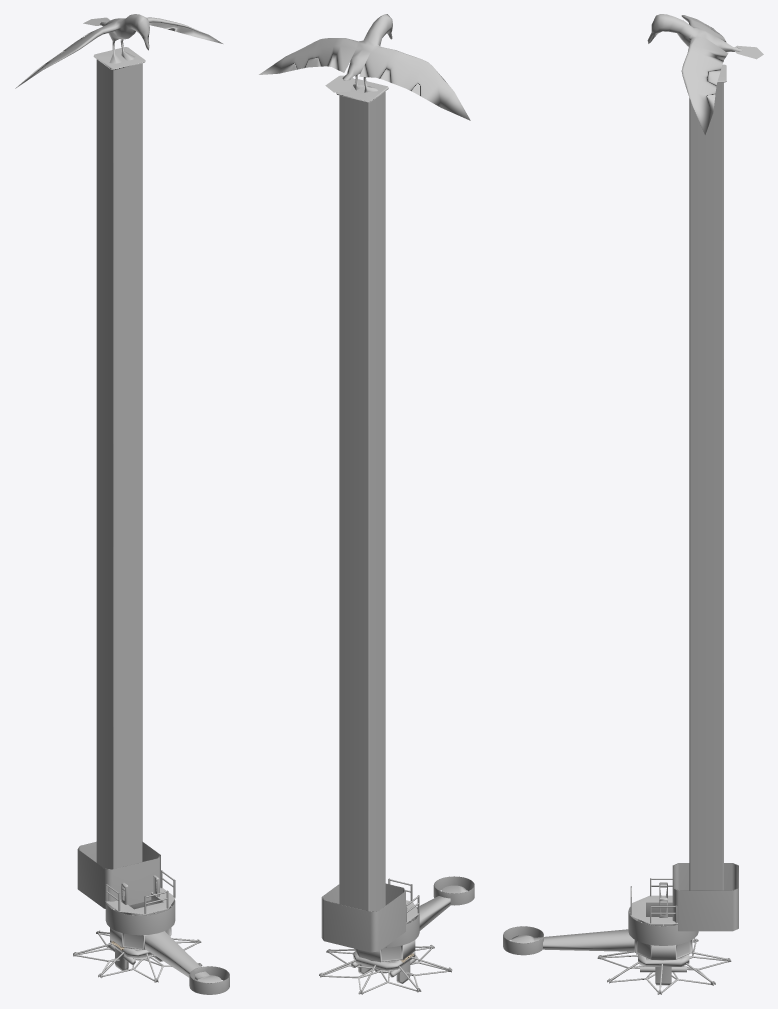
The model's file is condor.fbx.
3 renders of one model, left to right at view 1: azimuth 30°, elevation 25°; view 2: azimuth 150°, elevation 25°; view 3: azimuth 270°, elevation 25°, orthographic.
Parts seen in each view (by area): view 1: mast, hubwerk, arm, ring, arm_halter; view 2: mast, hubwerk, arm, ring, arm_halter; view 3: mast, hubwerk, arm, ring, arm_halter.
Part boxes in pixels (x1,y1,x2,y2): mast: (15, 14, 222, 908); hubwerk: (105, 870, 175, 970); arm: (145, 931, 229, 994); ring: (73, 930, 202, 982); arm_halter: (110, 928, 171, 949); mast: (259, 14, 470, 952); hubwerk: (351, 878, 419, 983); arm: (417, 876, 474, 930); ring: (319, 945, 452, 994); arm_halter: (354, 940, 415, 962); mast: (647, 14, 763, 931); hubwerk: (628, 878, 698, 985); arm: (503, 926, 634, 955); ring: (597, 938, 731, 994); arm_halter: (634, 939, 692, 959).
Bounding box in the file's own units: 1035 × 4467 × 1099.
